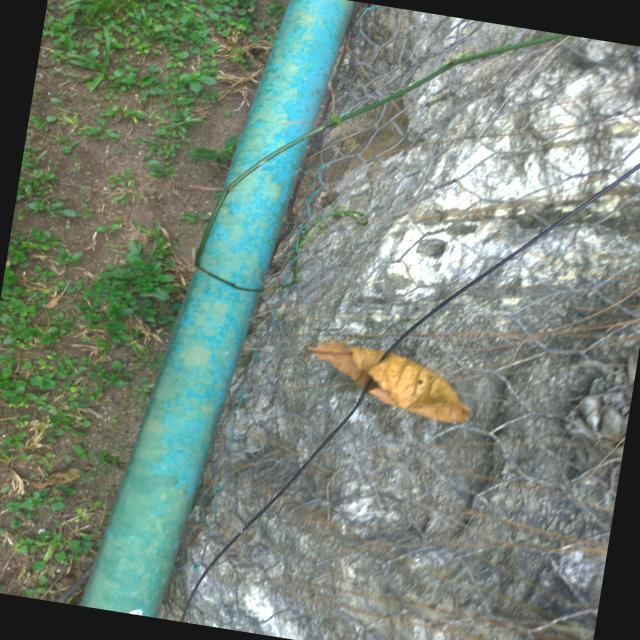gas: (85, 0, 353, 614)
